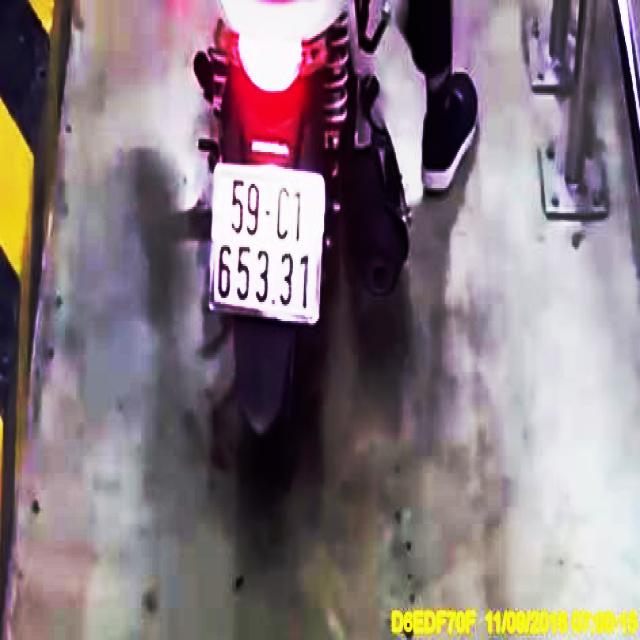license_plate: (208, 169, 325, 327)
